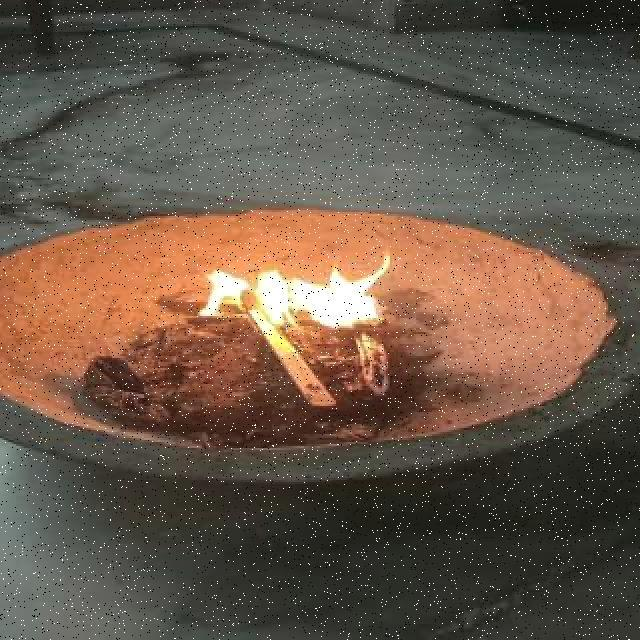Fire: (180, 244, 424, 338)
